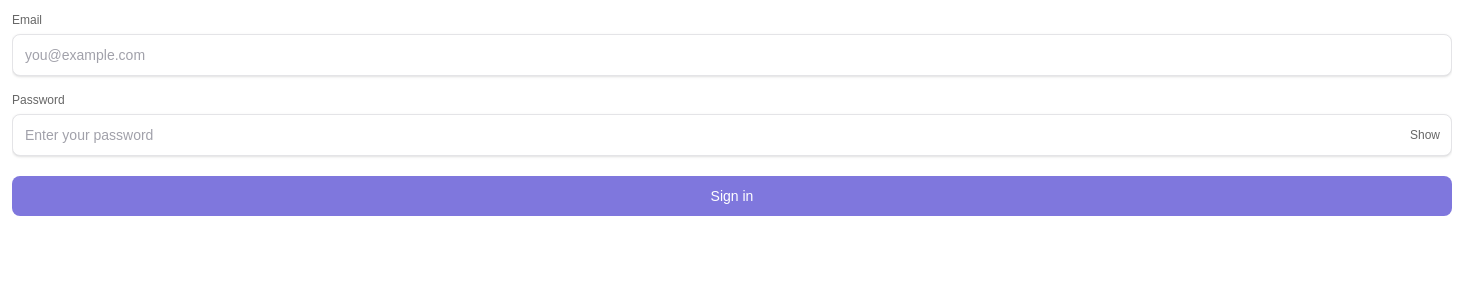
Scenario: LoginForm › shows validation error when submitting empty form
Click the button "Sign in".
click(732, 196)  # box [12,176,1452,216]
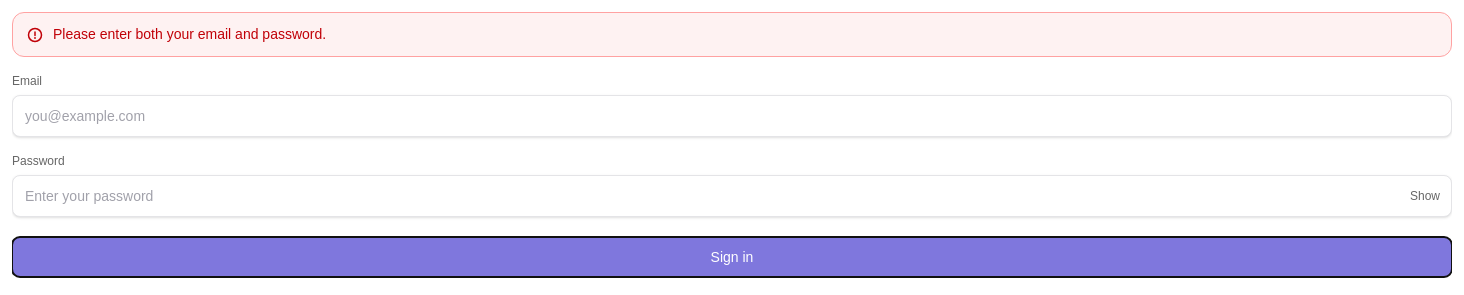
Now the text "Please enter both your email and password." is shown, box [53,25,326,44]
